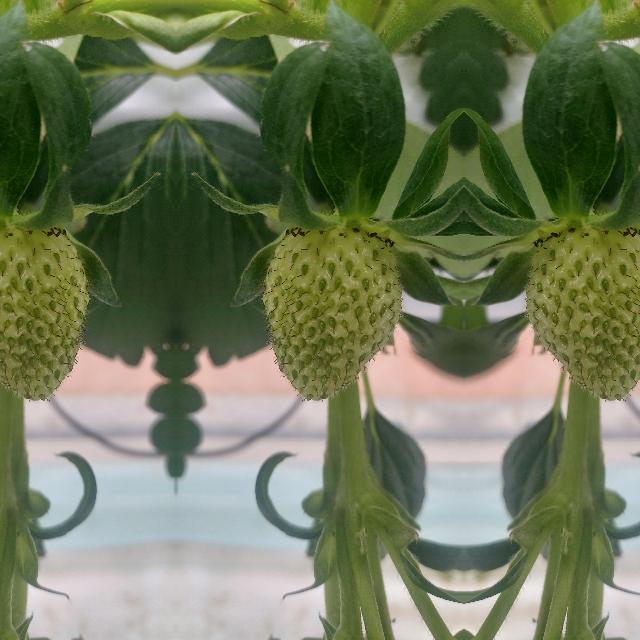Health_25: (262, 228, 401, 400), (525, 227, 640, 400), (0, 227, 88, 400)
